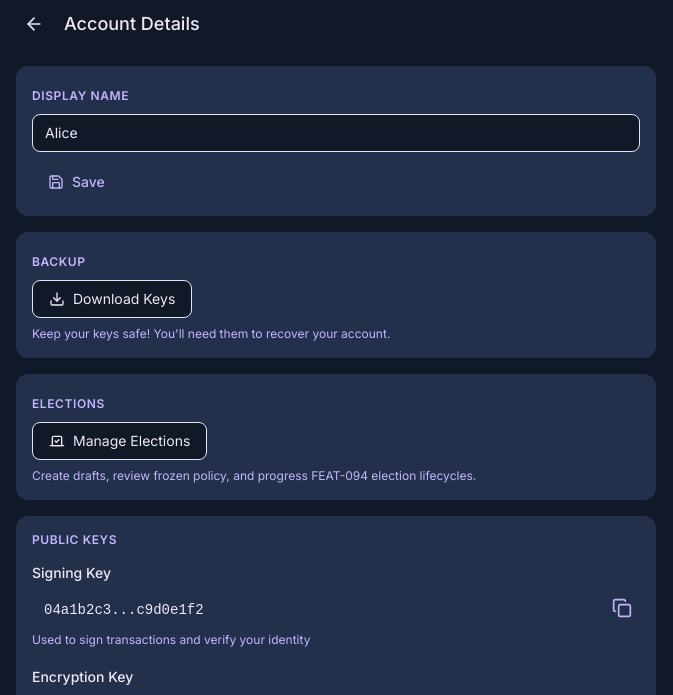
Scenario: AccountPage › Save Button State › should enable Save button when name changes
The width and height of the screenshot is (673, 695).
Step 1. Replace the text in the field showing "Alice" with "Alice Updated" → (336, 133), box [32,114,640,152]
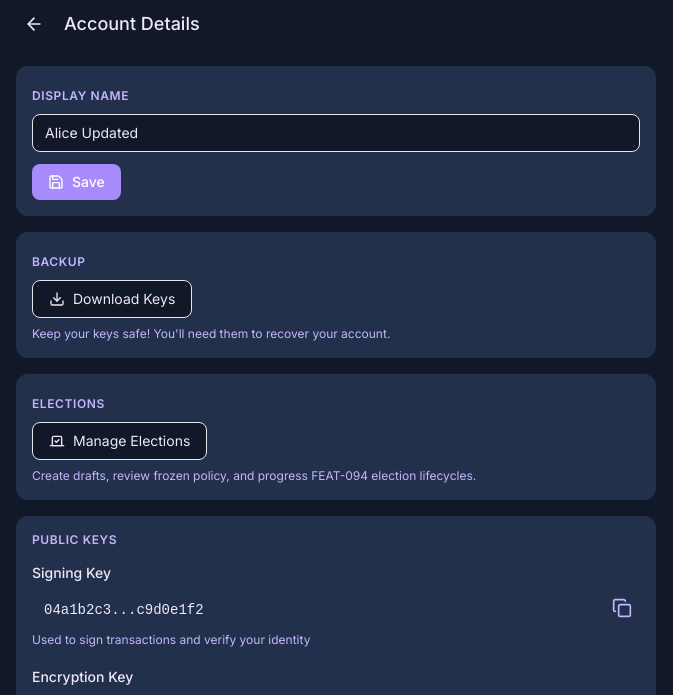
Result: the button "Save" is enabled at [32,164,121,200]
